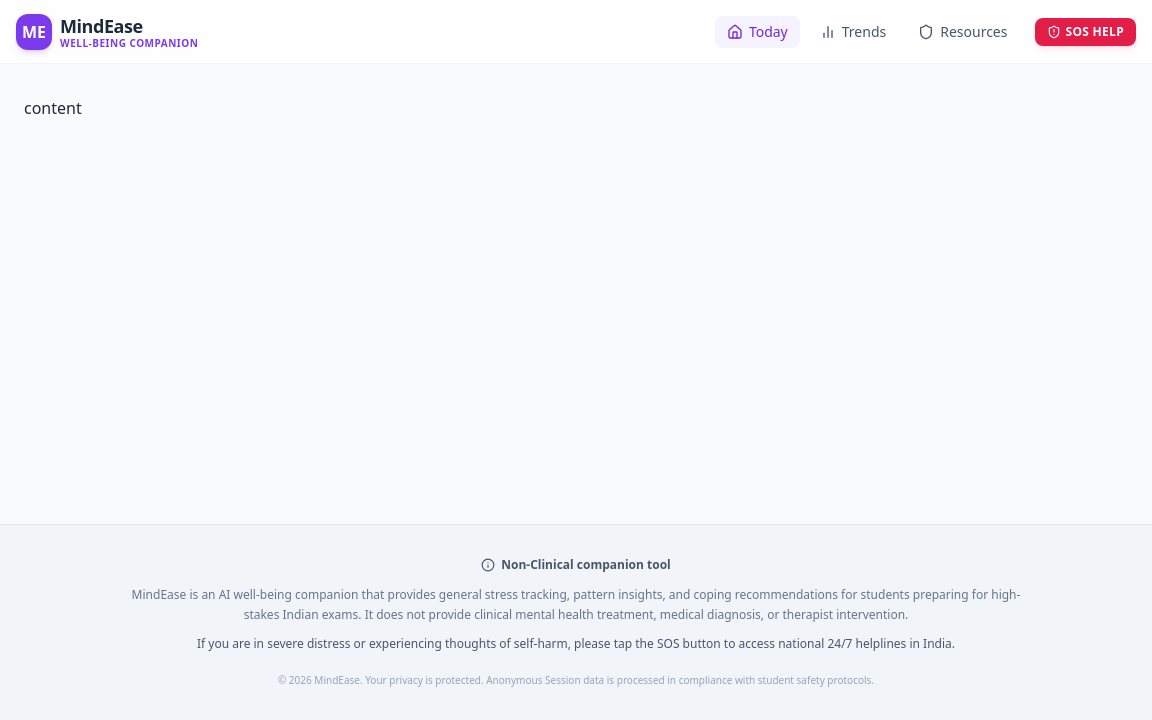
Test: Layout › keeps a one-tap SOS reachable that opens crisis resources
Click the button with aria-label "immediate crisis support". click: point(1086, 32)
box: [1036,18,1136,46]
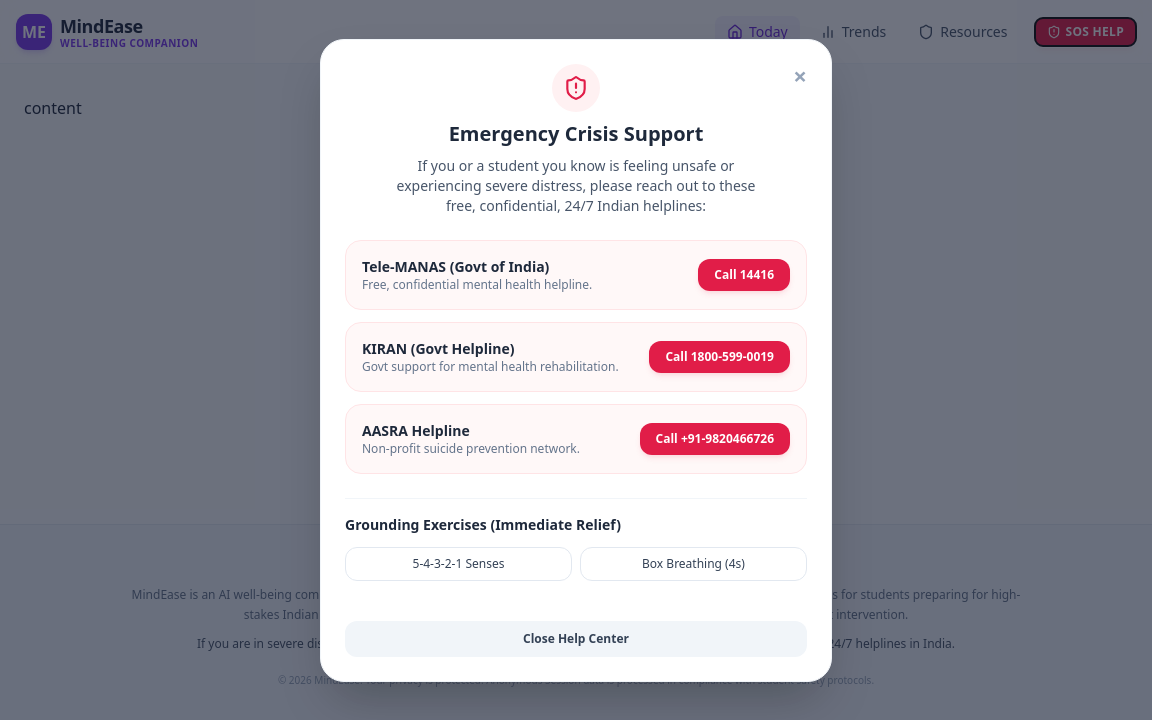
Expected: the heading "Emergency Crisis Support" is shown, [449,120,703,146]
Expected: the link "Call 14416" is shown, [698,258,790,290]
